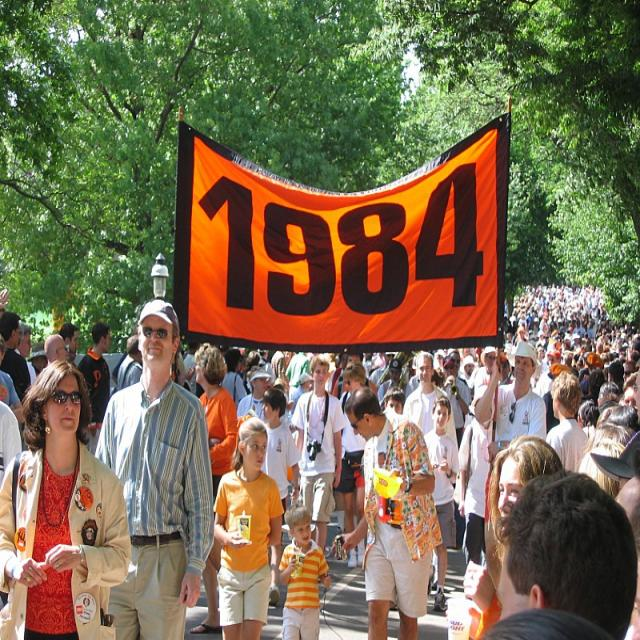body: (90, 296, 217, 639), (444, 436, 640, 639), (0, 356, 133, 639), (328, 385, 445, 639), (503, 280, 640, 440), (0, 288, 225, 385), (473, 338, 548, 580), (212, 415, 286, 639), (188, 343, 238, 636), (288, 355, 347, 585), (225, 346, 504, 394), (257, 386, 300, 608), (422, 392, 461, 614), (452, 384, 497, 566), (277, 503, 333, 639), (336, 358, 371, 571), (401, 351, 461, 459), (75, 321, 111, 458), (545, 369, 590, 473), (0, 334, 25, 485), (0, 311, 30, 404), (235, 364, 274, 426), (376, 357, 414, 413), (116, 333, 145, 391), (42, 333, 70, 366), (382, 385, 408, 415), (58, 321, 80, 354)
